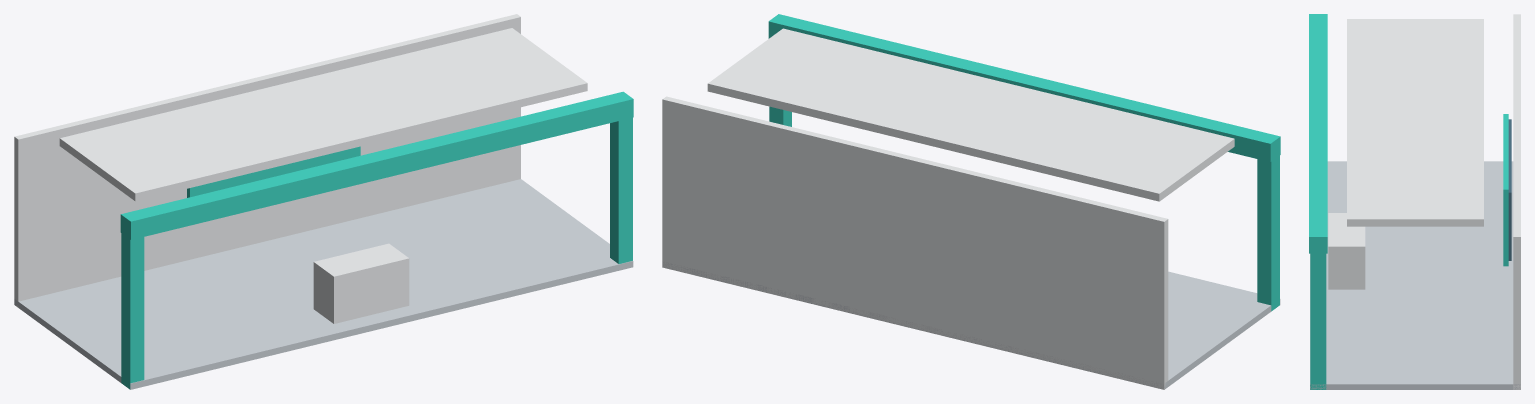
3 renders of one model, left to right at view 1: azimuth 30°, elevation 25°; view 2: azimuth 150°, elevation 25°; view 3: azimuth 270°, elevation 25°, orthographic. The views are drawn at different scales.
Visible parts, largest first — view 1: Exhibition Booth Concept; view 2: Exhibition Booth Concept; view 3: Exhibition Booth Concept.
Part boxes in pixels (x1=…): Exhibition Booth Concept: x1=14, y1=14, x2=633, y2=389; Exhibition Booth Concept: x1=662, y1=14, x2=1280, y2=389; Exhibition Booth Concept: x1=1309, y1=14, x2=1520, y2=389.
Bounding box in the file's own units: 10 × 3.34 × 4.02.
